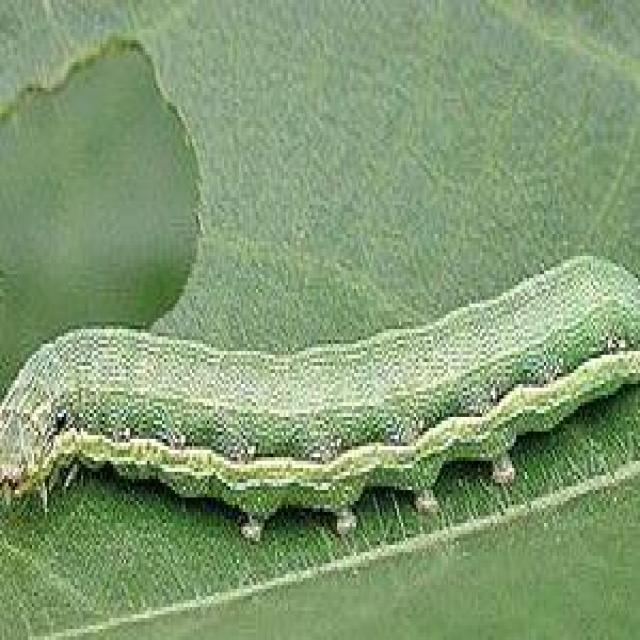BeetArmyWorm-Larva-: (3, 244, 638, 534)
